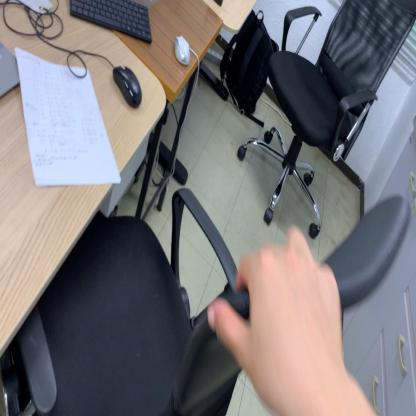chair: (18, 187, 410, 416), (237, 3, 415, 238)
